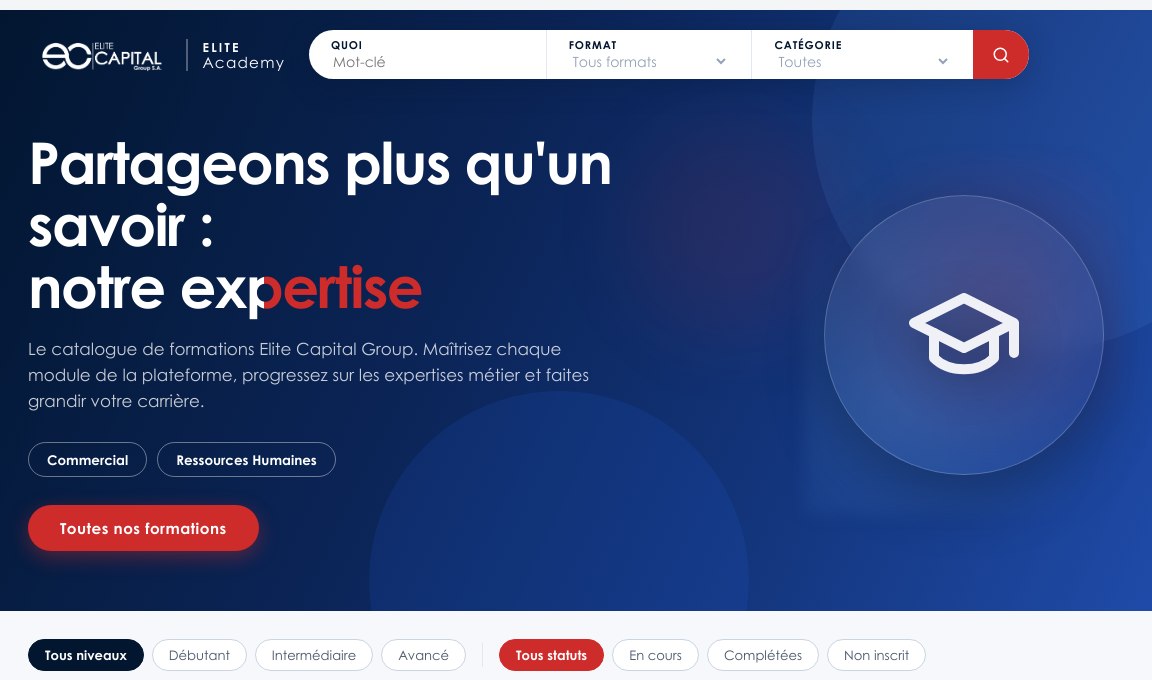
Scenario: Academy — catalogue et filtres › la recherche vide restaure toutes les formations
Type "Commercial" into the field with placeholder "Mot-clé".
click(427, 62); type("Commercial")  # box [331,52,524,71]
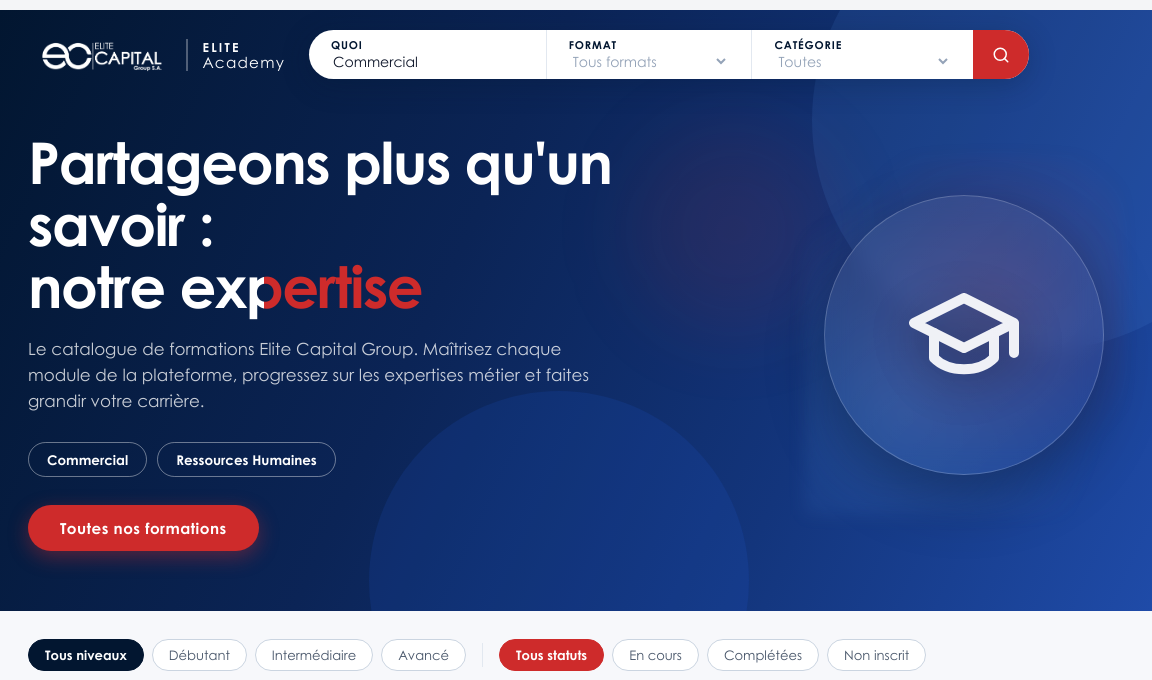
Expected: the text "Gestion des conges et absences" is not shown
Clear the field with placeholder "Mot-clé" at (427, 62), box [331,52,524,71]
(page scrolled)
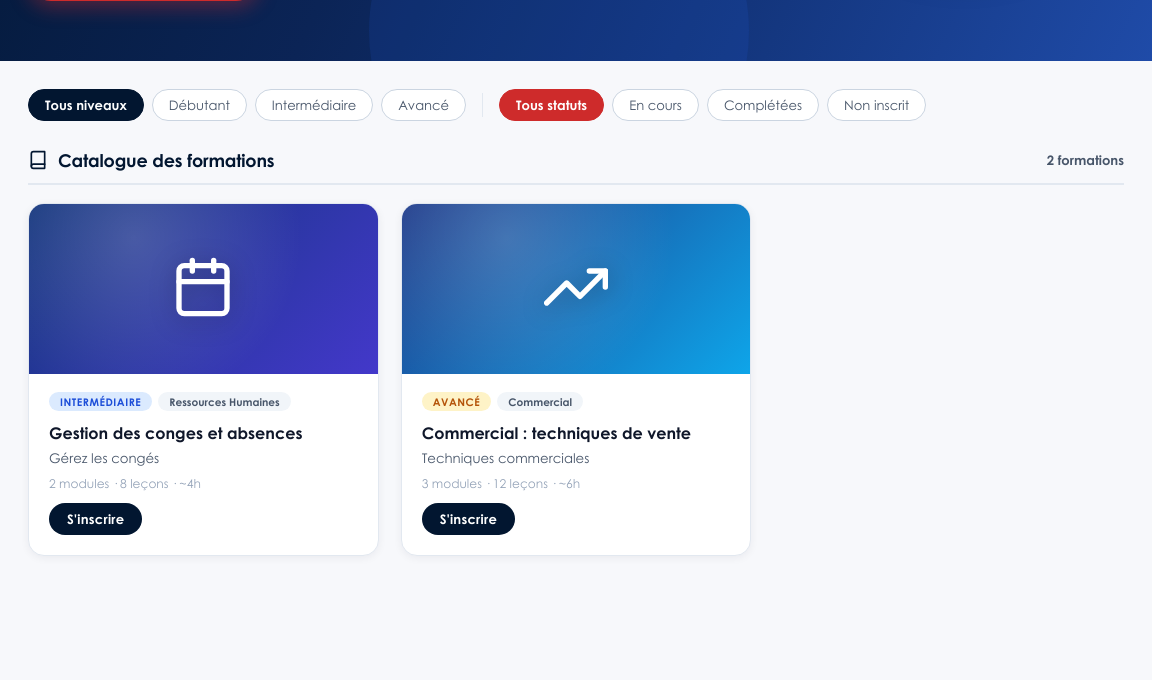
Expected: the text "Commercial : techniques de vente" is shown, [422,423,730,444]
Now the text "Gestion des conges et absences" is shown, box [49,423,302,443]
